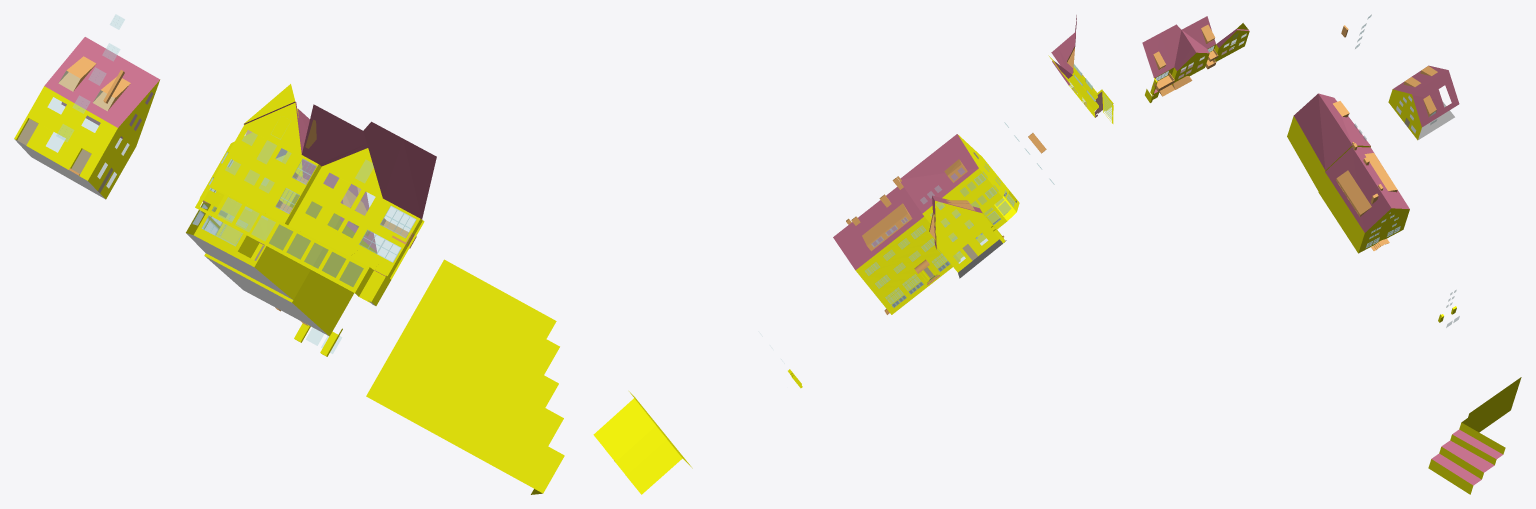
The picture shows the model from 3 angles, left to right: view 1: azimuth 30°, elevation 25°; view 2: azimuth 150°, elevation 25°; view 3: azimuth 270°, elevation 25°; orthographic projection. The views are drawn at different scales.
Visible parts, largest first — view 1: mesh; view 2: mesh; view 3: mesh.
Boxes of the visible parts, x1,y1,x2,y2 form: mesh: (14,14,564,494); mesh: (593,15,1113,494); mesh: (1142,14,1521,494).
Bounding box in the file's own units: 70.8 × 74.42 × 71.15.
